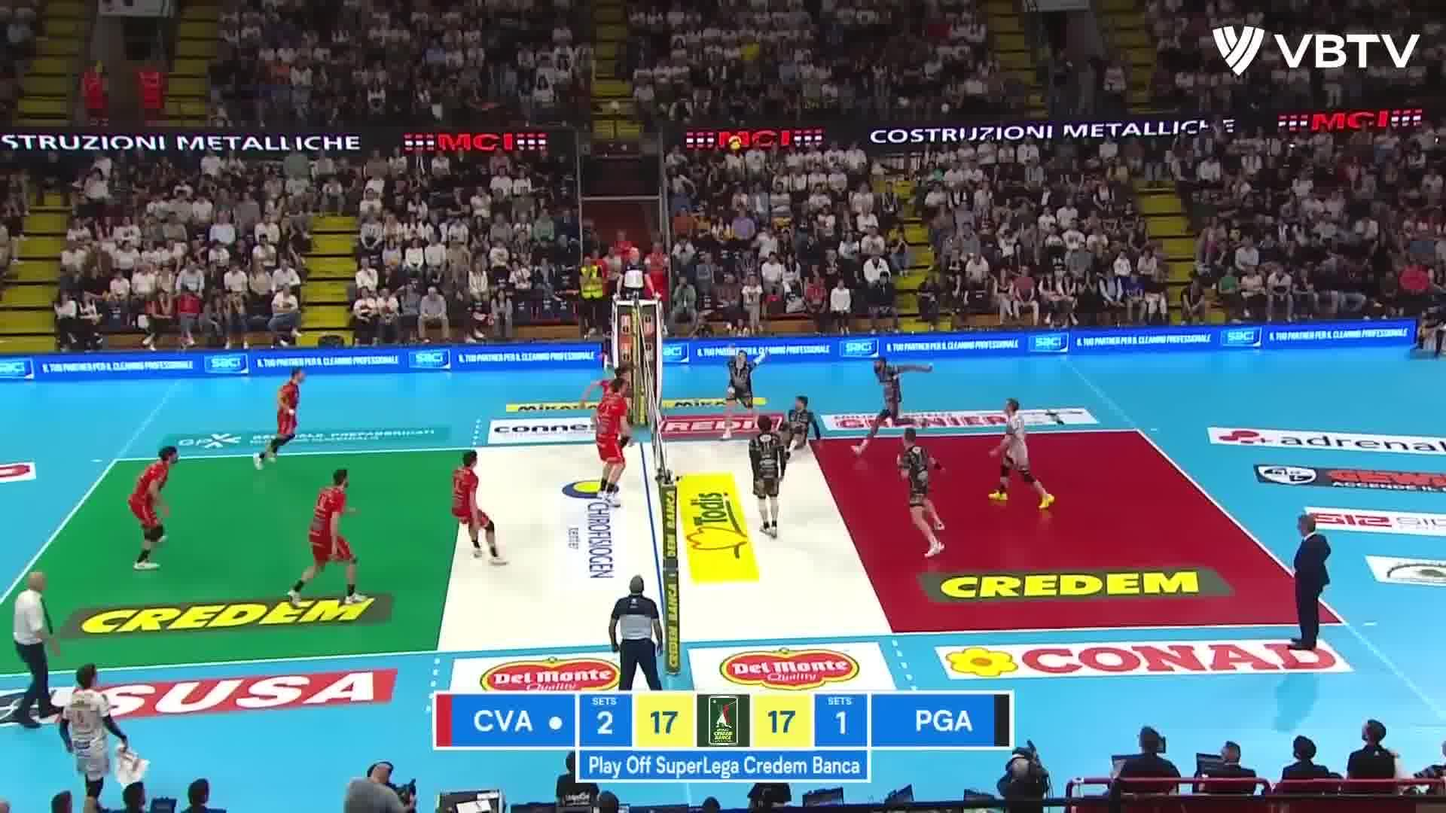balls: (728, 134, 747, 154)
